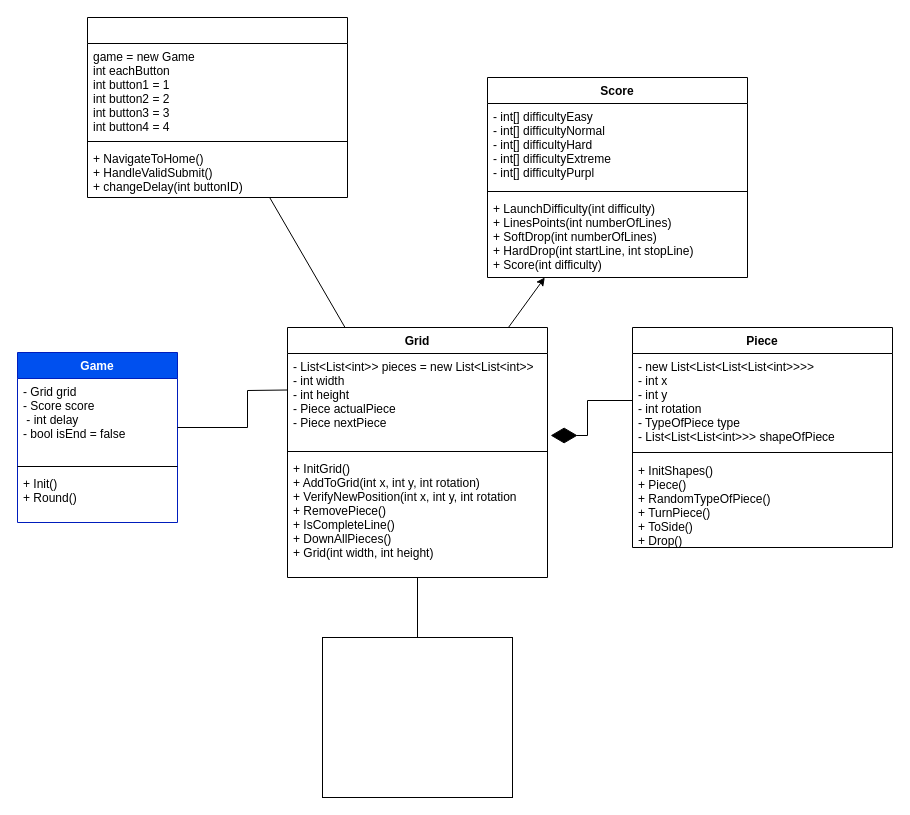
Image size: 910x815. Some labels were removed from this diagram. Each missing label, with the box of its shape:
<<Enumeration>> TypeOfPiece - EMPTY - I - O - T - L - J - Z - S: (322, 636, 512, 798)
Option: (86, 16, 348, 198)
